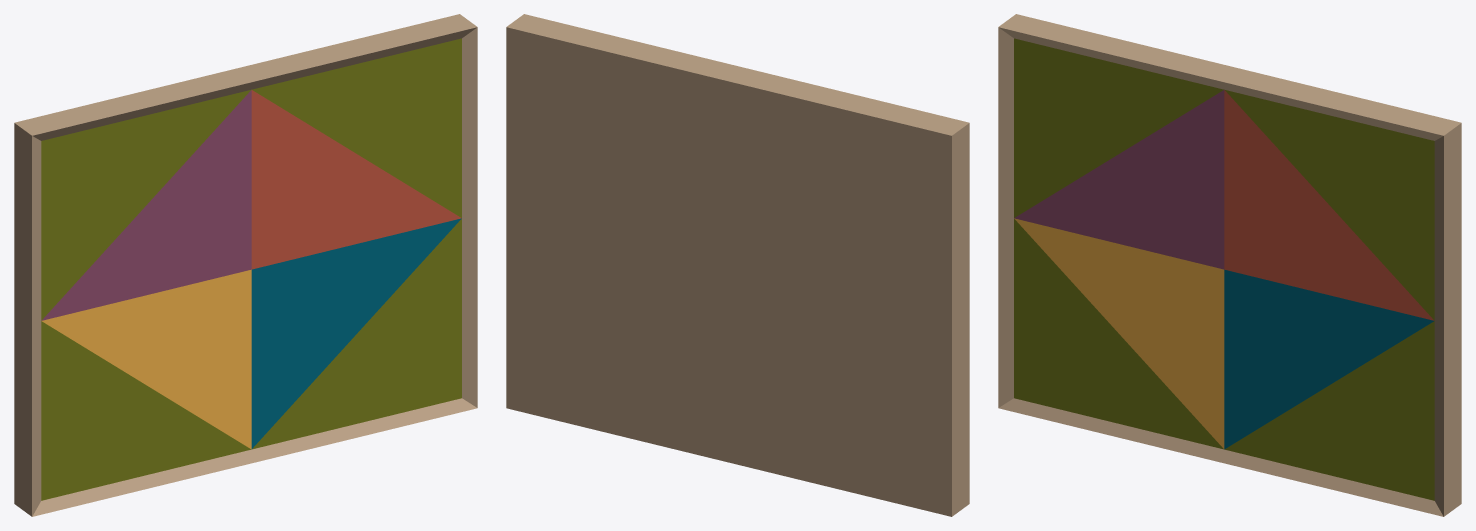
File: Accesories_Frame_D.glb
3 renders of one model, left to right at view 1: azimuth 30°, elevation 25°; view 2: azimuth 150°, elevation 25°; view 3: azimuth 330°, elevation 25°, orthographic.
Parts seen in each view (by area): view 1: Accesories_Frame_D; view 2: Accesories_Frame_D; view 3: Accesories_Frame_D.
Part boxes in pixels (<box>): Accesories_Frame_D: <box>14,14,477,516</box>; Accesories_Frame_D: <box>506,14,969,516</box>; Accesories_Frame_D: <box>998,14,1461,516</box>.
Bounding box in the file's own units: 0.611 × 0.4993 × 0.0426.
Materials: 1 (1 with a texture image).
